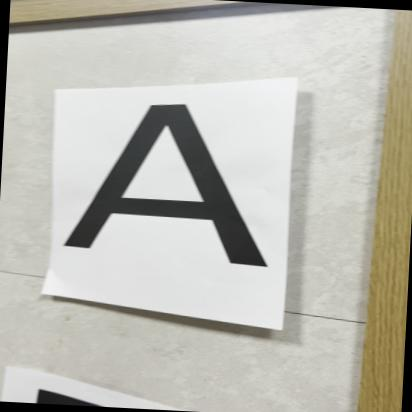seat: (49, 93, 275, 280)
